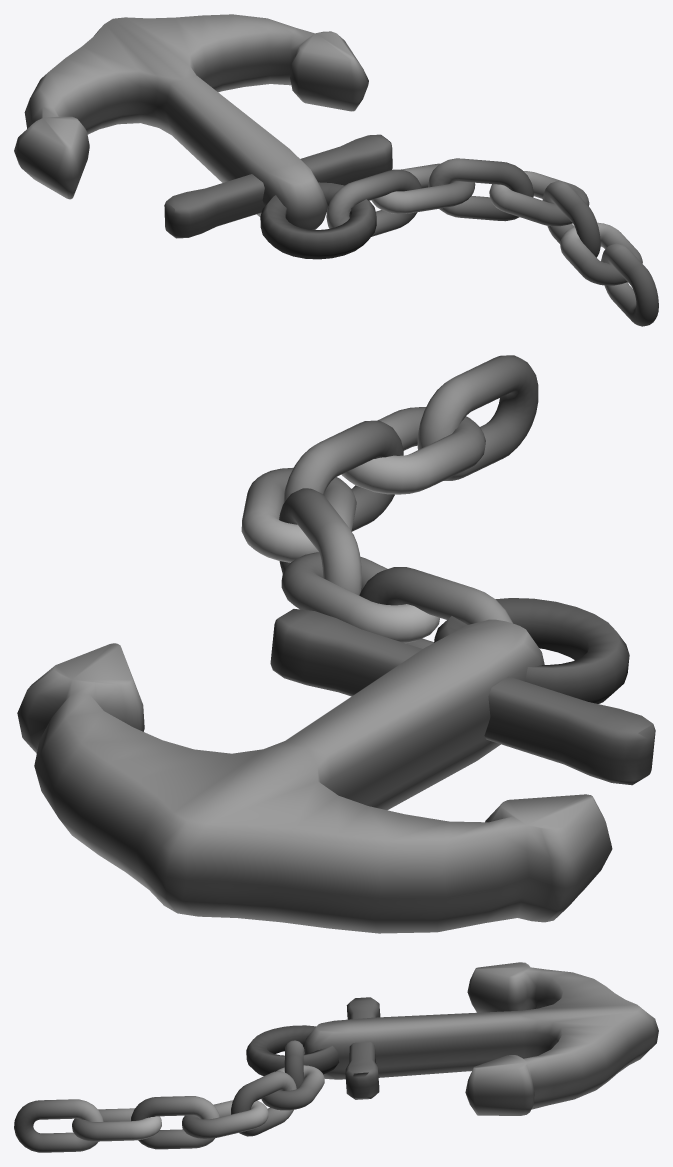
Rendered from Sweep_01.fbx.
3 renders of one model, top to bottom at view 1: azimuth 30°, elevation 25°; view 2: azimuth 150°, elevation 25°; view 3: azimuth 270°, elevation 25°, orthographic. The views are drawn at different scales.
Visible parts, largest first — view 1: Sweep_01; view 2: Sweep_01; view 3: Sweep_01.
Boxes of the visible parts, x1,y1,x2,y2 form: Sweep_01: [14, 14, 658, 326]; Sweep_01: [17, 355, 655, 933]; Sweep_01: [14, 962, 658, 1152].
Bounding box in the file's own units: 408 × 92.08 × 712.
